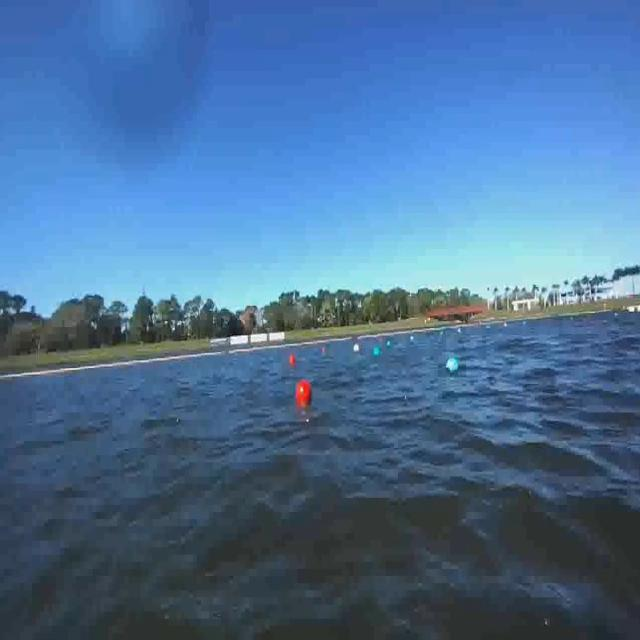green-buoy: (446, 357, 457, 372), (372, 345, 382, 361)
red-buoy: (298, 380, 312, 404)
red-column-buoy: (289, 354, 295, 366)
yellow-buoy: (352, 339, 360, 358)
